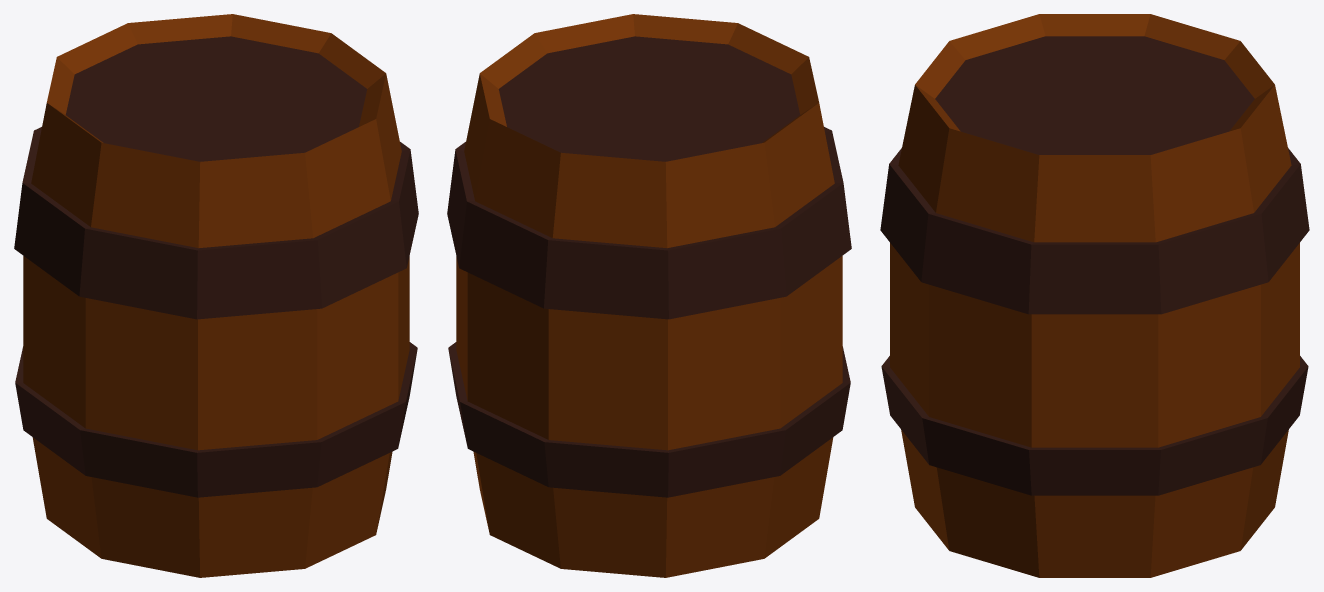
The model's file is Barril.fbx.
3 renders of one model, left to right at view 1: azimuth 30°, elevation 25°; view 2: azimuth 150°, elevation 25°; view 3: azimuth 270°, elevation 25°, orthographic.
Parts seen in each view (by area): view 1: Barril; view 2: Barril; view 3: Barril.
Part boxes in pixels (x1=…): Barril: x1=14, y1=14, x2=418, y2=577; Barril: x1=447, y1=14, x2=851, y2=577; Barril: x1=880, y1=14, x2=1309, y2=577.
Size of the model in its own units: 262 by 307 by 283.
